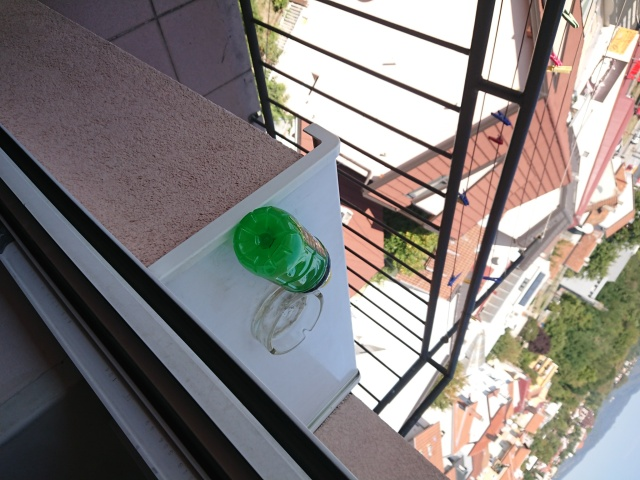Vindi Iso Sport Lemon-Grapefruit 500mL: (230, 204, 334, 296)
